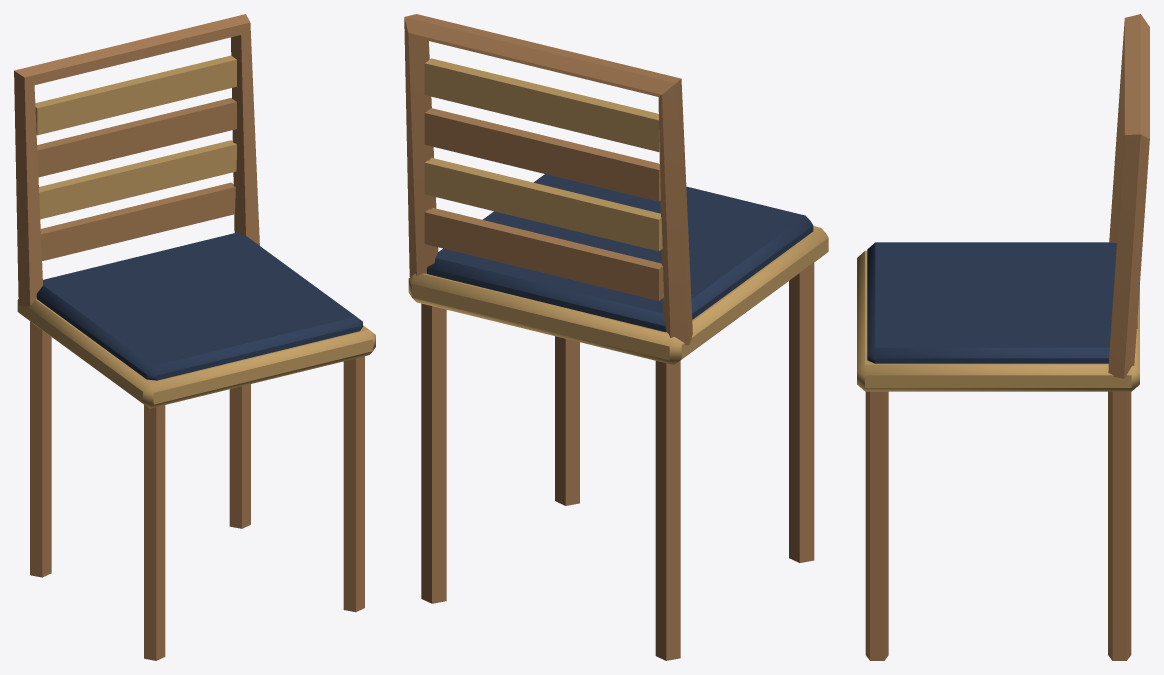
File: 160_chaise_rotin.fbx
3 views of the same model, side by side, from view 1: azimuth 30°, elevation 25°; view 2: azimuth 150°, elevation 25°; view 3: azimuth 270°, elevation 25° (orthographic). The views are drawn at different scales.
Parts seen in each view (by area): view 1: Chaise; view 2: Chaise; view 3: Chaise.
Boxes of the visible parts, x1=… form: Chaise: x1=14, y1=14, x2=375, y2=660; Chaise: x1=404, y1=14, x2=828, y2=660; Chaise: x1=857, y1=14, x2=1149, y2=660.
Size of the model in its own units: 0.42 by 0.84 by 0.42.
1 material, 1 textured.
